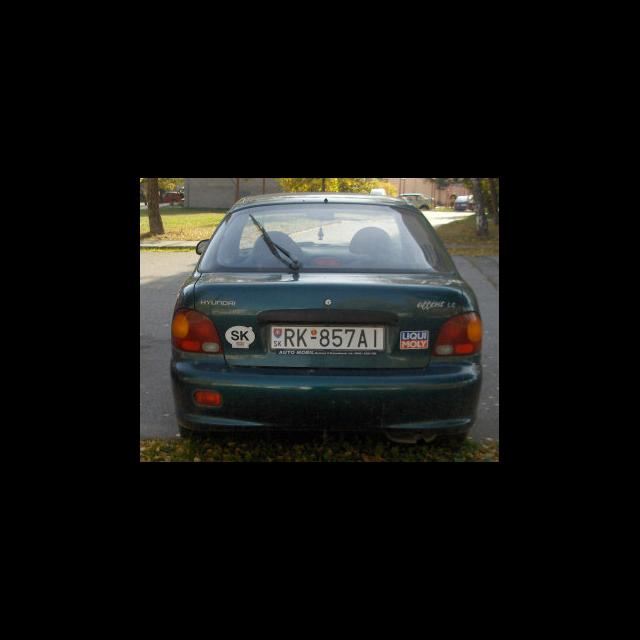Plate: (268, 322, 386, 353)
